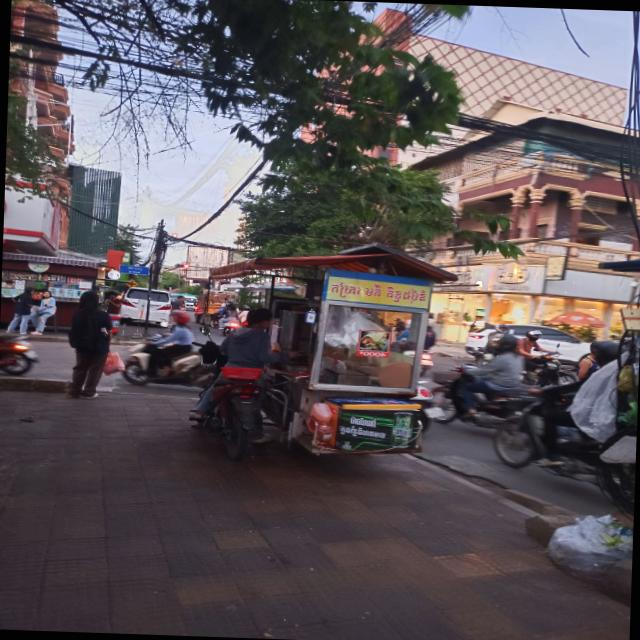2: (329, 278, 431, 306)
750: (359, 349, 388, 357)
Yolov11kh: (337, 423, 387, 439)
